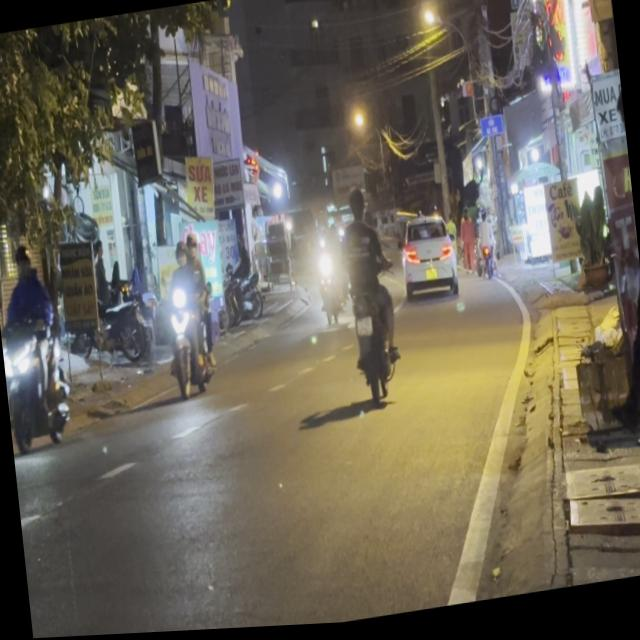helmet: (8, 238, 32, 279)
licenseplate: (0, 228, 82, 459), (330, 180, 404, 411)
motorcyclist: (343, 185, 365, 224)
nohelmet: (353, 318, 371, 339)
